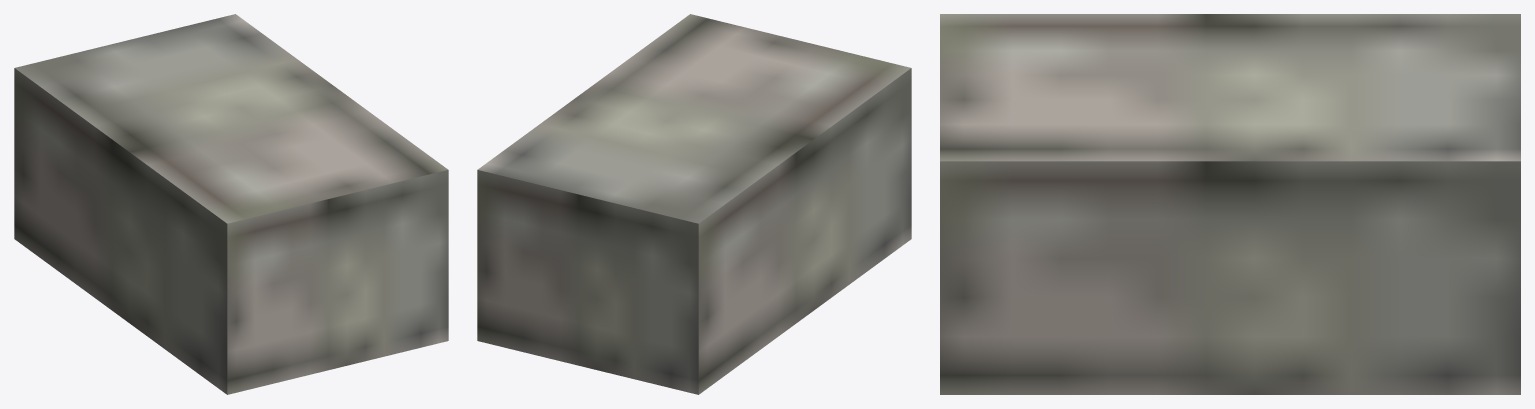
The model's file is building_construction_n_small_brick.glb.
3 renders of one model, left to right at view 1: azimuth 30°, elevation 25°; view 2: azimuth 150°, elevation 25°; view 3: azimuth 270°, elevation 25°, orthographic. The views are drawn at different scales.
Visible parts, largest first — view 1: MeshRoot; view 2: MeshRoot; view 3: MeshRoot.
Part boxes in pixels (x1,y1,x2,y2): MeshRoot: [14, 14, 448, 394]; MeshRoot: [477, 14, 911, 394]; MeshRoot: [940, 14, 1520, 394].
Bounding box in the file's own units: 0.3076 × 0.2275 × 0.5127.
1 material, 1 textured.
